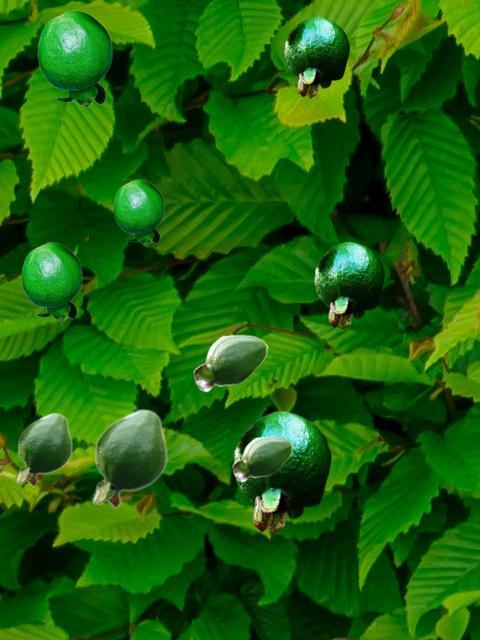guava: (233, 410, 331, 533), (92, 408, 166, 508), (37, 10, 111, 106), (314, 241, 384, 328), (284, 16, 349, 97), (21, 242, 81, 320), (193, 334, 267, 391), (16, 412, 71, 486), (113, 179, 163, 244), (232, 436, 292, 481)
